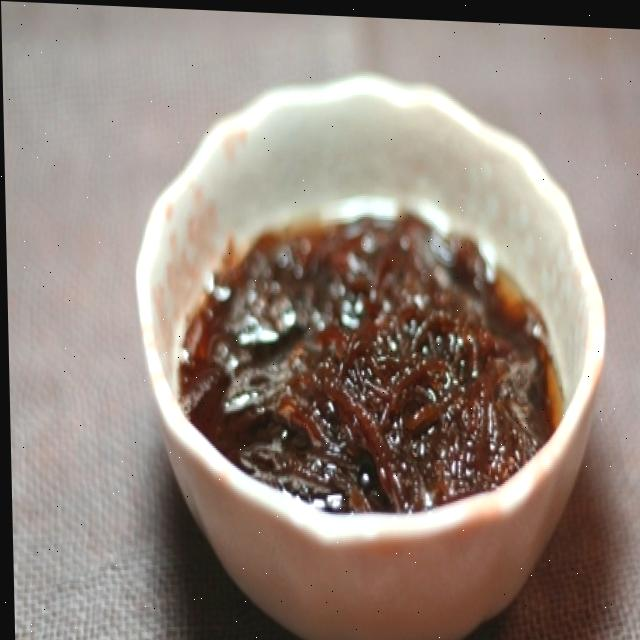蔬菜料理: (129, 61, 598, 598)
